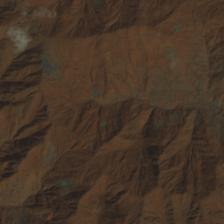landslides: (43, 58, 66, 88), (47, 53, 59, 70)
